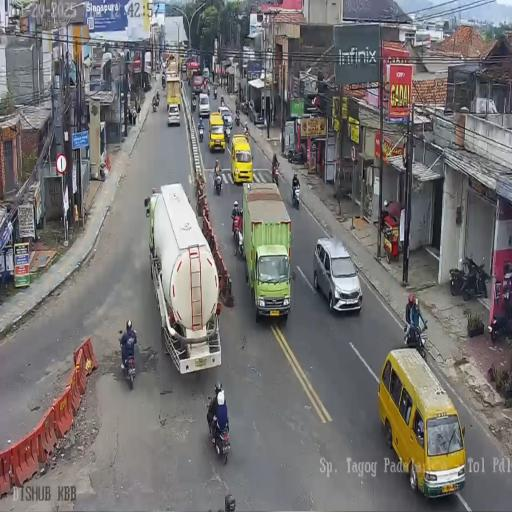car: (378, 347, 465, 494), (315, 236, 364, 314), (230, 134, 252, 185), (218, 105, 231, 129), (198, 93, 210, 118), (167, 103, 180, 126), (202, 67, 210, 81)
motorcycle: (450, 252, 490, 302), (209, 408, 231, 464), (490, 296, 512, 343), (119, 334, 137, 390), (286, 148, 304, 165), (291, 182, 300, 210), (214, 168, 222, 196), (224, 123, 231, 145), (272, 164, 279, 186), (243, 124, 250, 141), (198, 123, 204, 141), (242, 100, 248, 115), (153, 96, 158, 111), (192, 95, 196, 113), (235, 112, 240, 126), (161, 75, 166, 89), (213, 86, 217, 99), (207, 84, 210, 96)
truck: (244, 182, 292, 319), (192, 73, 204, 94), (181, 59, 187, 73)
